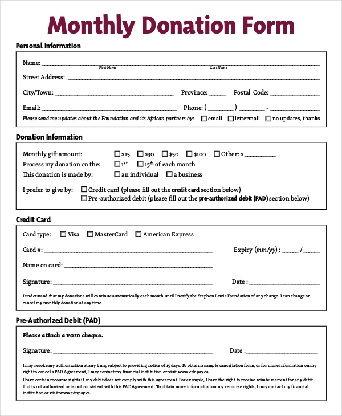checkbox: (199, 114, 209, 123), (225, 114, 235, 123), (263, 114, 272, 124), (79, 194, 89, 203), (165, 169, 173, 180), (212, 149, 221, 158), (136, 160, 145, 169), (112, 169, 121, 178), (86, 230, 95, 239), (113, 148, 121, 158), (161, 149, 169, 159), (134, 229, 142, 239), (136, 149, 145, 157), (185, 149, 193, 158), (59, 229, 67, 238), (113, 160, 121, 168), (80, 185, 88, 193)
textline: (41, 55, 321, 67), (67, 72, 321, 81), (51, 344, 216, 356), (51, 275, 215, 287), (62, 258, 215, 270), (41, 57, 209, 67), (40, 101, 180, 113), (43, 245, 215, 254), (203, 100, 321, 113), (209, 57, 321, 69), (52, 87, 176, 97), (247, 274, 322, 287), (244, 344, 320, 356), (270, 87, 322, 97), (282, 242, 322, 255), (270, 103, 320, 113), (243, 149, 278, 159), (207, 102, 234, 112), (238, 103, 266, 112), (207, 87, 228, 98), (282, 245, 299, 255), (303, 246, 321, 255)
